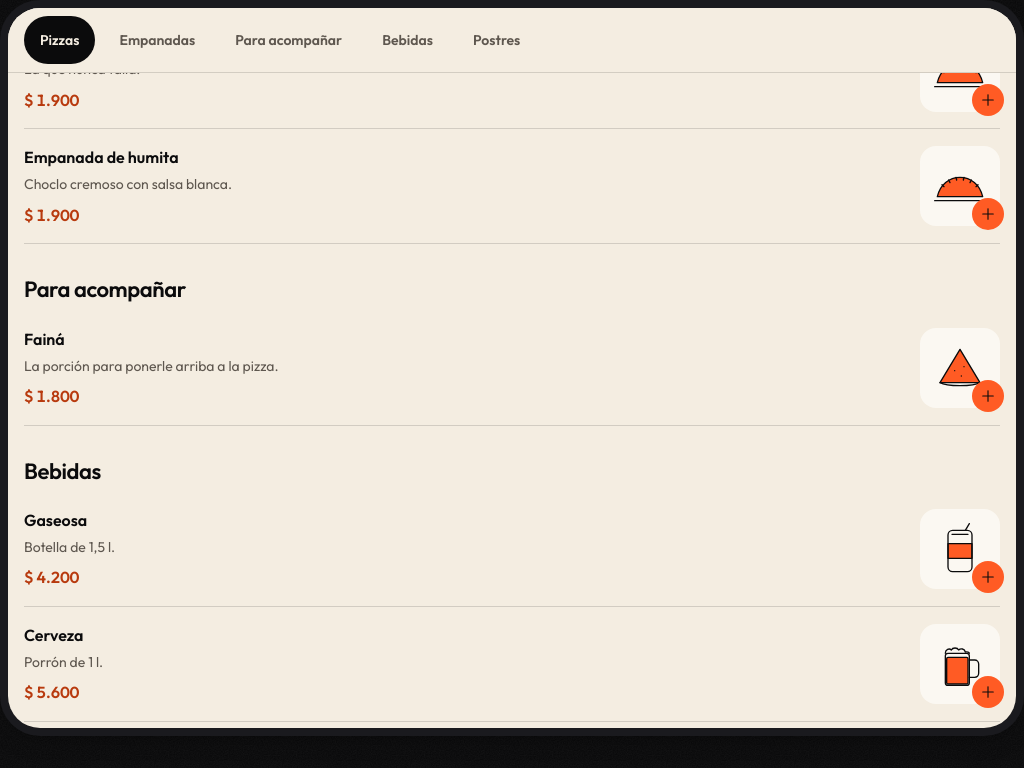
Test: DemoCliente: la carta del cliente › quitar todo del pedido deja el hueco del estado vacío
(page scrolled)
Click the button "Fainá La porción para ponerle arriba a la pizza. $ 1.800" at (44,339), box 24,311 -> 1000,426
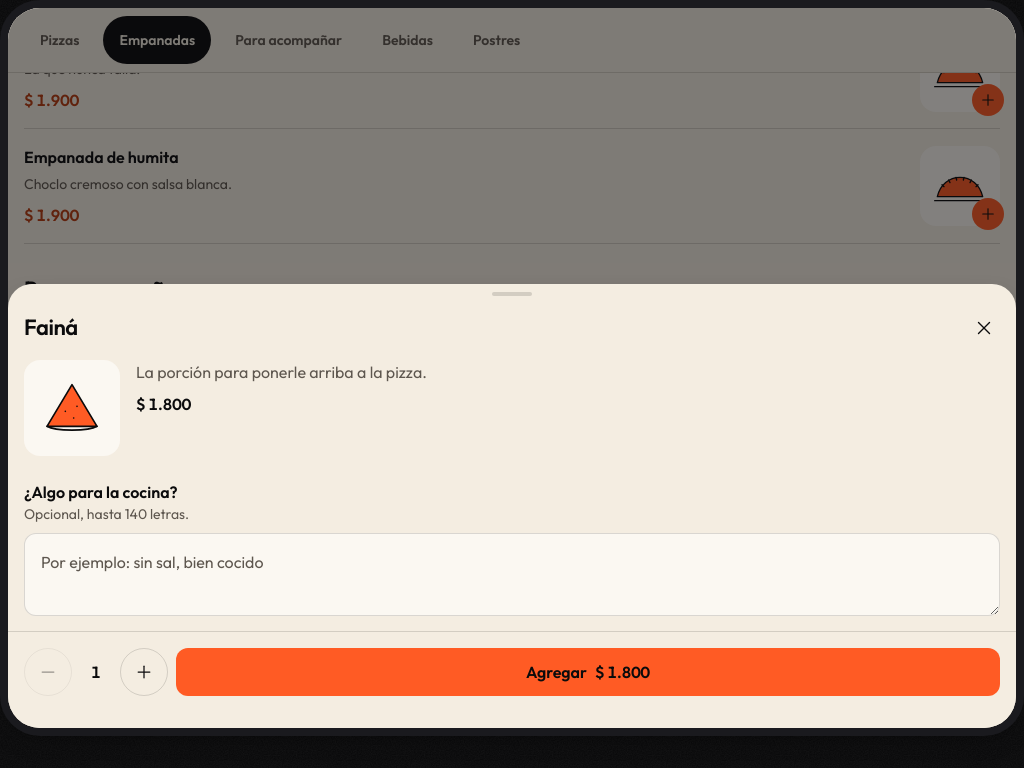
Click the button "Agregar $ 1.800" at (588,672), box 176,648 -> 1000,696
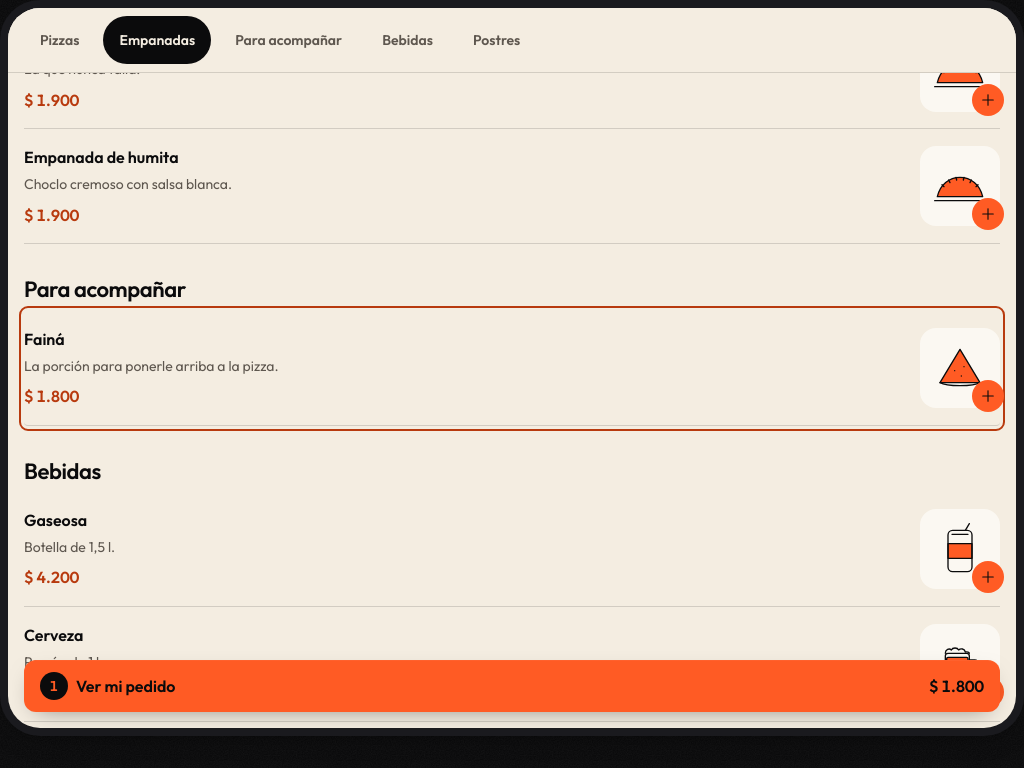
Click the button "1 Ver mi pedido $ 1.800" at (126,686), box 24,660 -> 1000,712
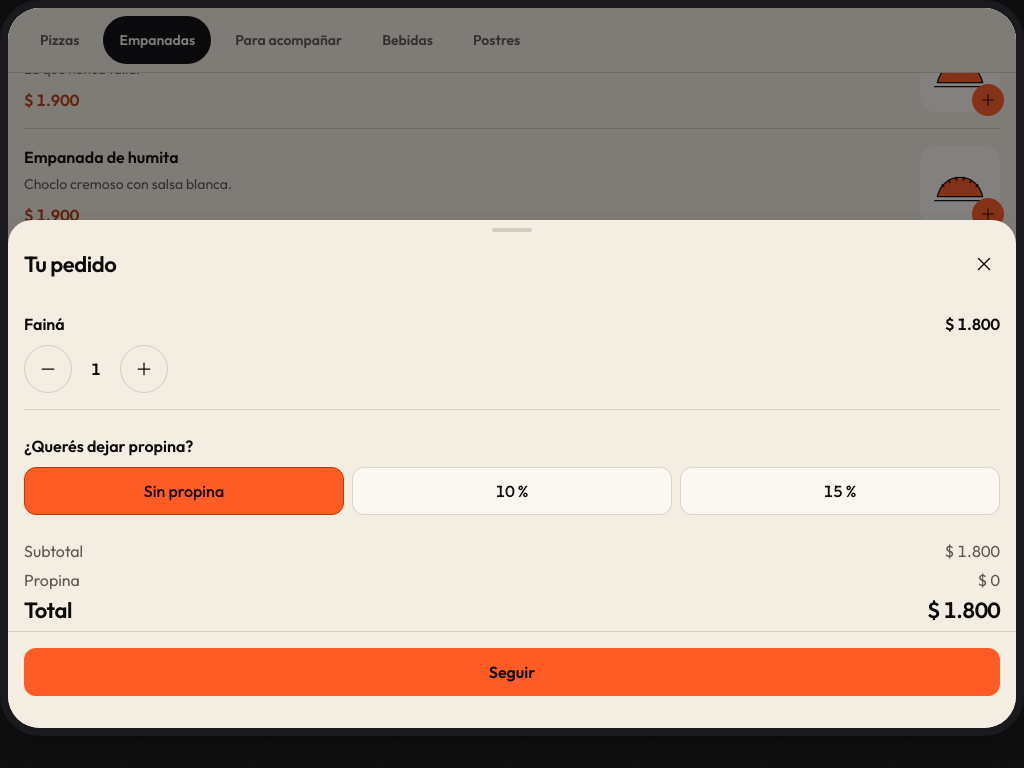
Click the button named "Quitar Fainá" at (48,369), box 24,345 -> 72,393
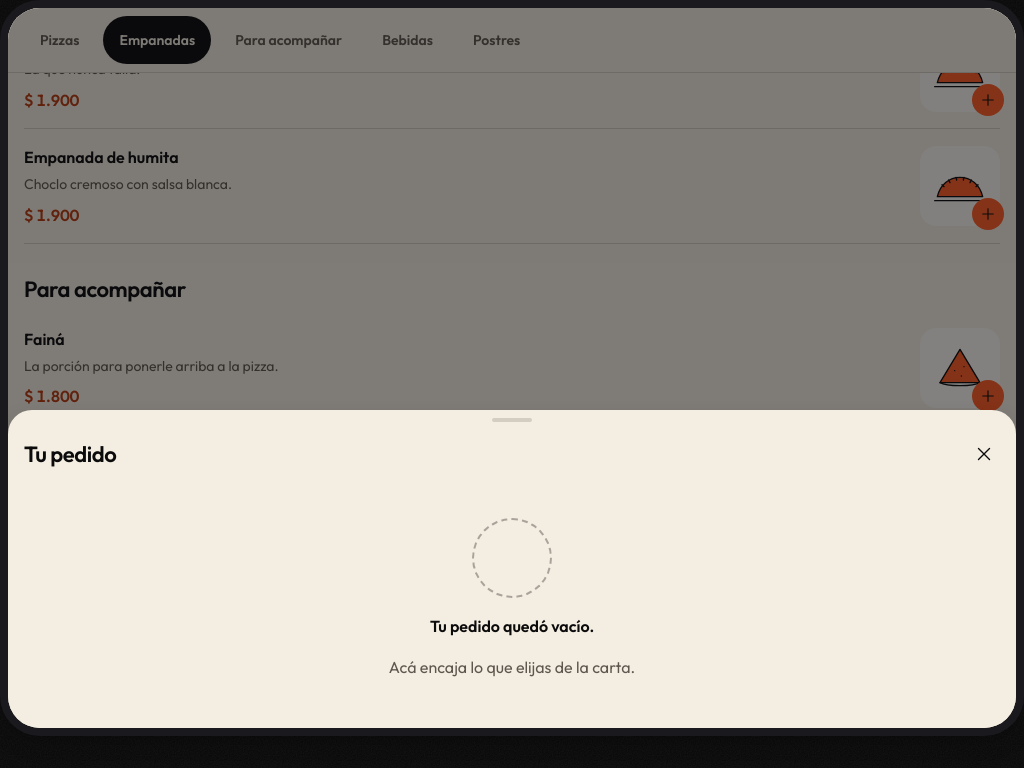
Check: the text "Tu pedido quedó vacío." is shown, box 430,614 -> 594,639
